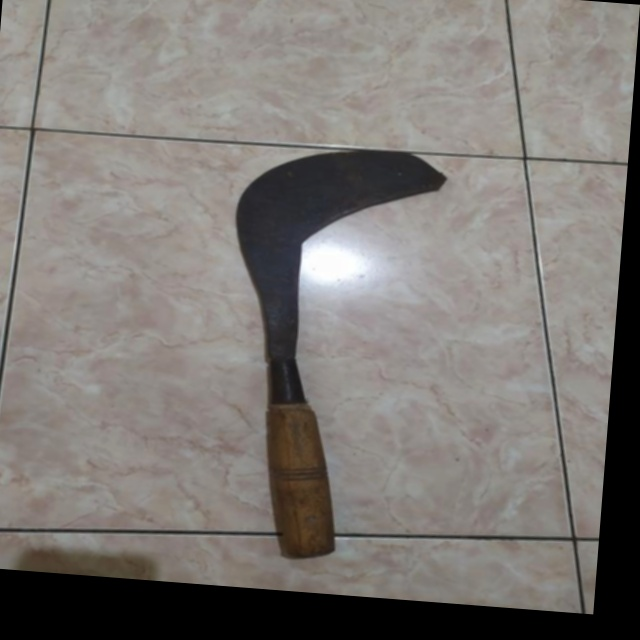Sharp-Object: (193, 80, 464, 571)
